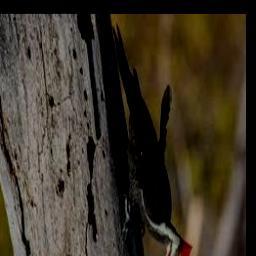Woodpecker: (111, 25, 192, 256)
